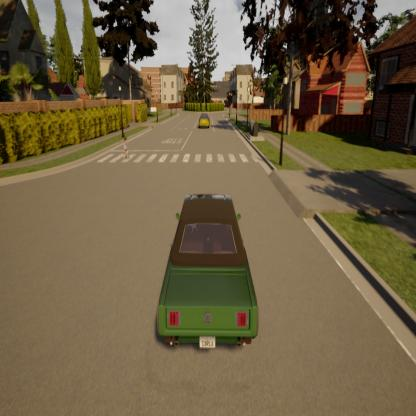Cars: (148, 187, 261, 358), (197, 110, 211, 130)
Pedestrian: (121, 133, 132, 164)
